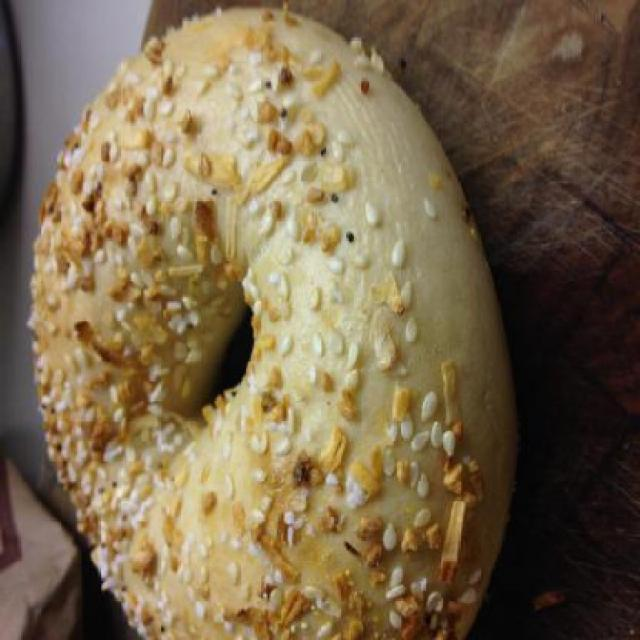Bagel: (29, 2, 514, 636)
